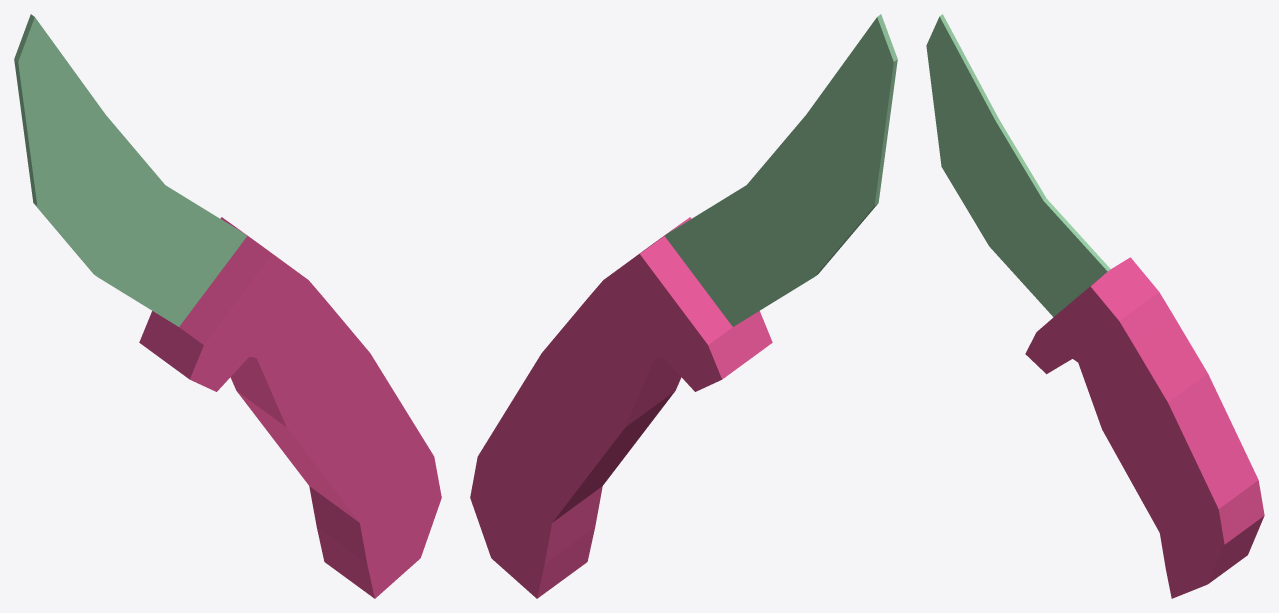
The model's file is Knife.fbx.
3 renders of one model, left to right at view 1: azimuth 30°, elevation 25°; view 2: azimuth 150°, elevation 25°; view 3: azimuth 330°, elevation 25°, orthographic. The views are drawn at different scales.
Visible parts, largest first — view 1: Knife; view 2: Knife; view 3: Knife.
Part boxes in pixels (box(x1,y1,x2,y2)): Knife: box(14, 14, 441, 598); Knife: box(470, 14, 897, 598); Knife: box(926, 14, 1264, 598).
Size of the model in its own units: 29.14 by 44.67 by 6.37.
2 materials, 2 textured.
